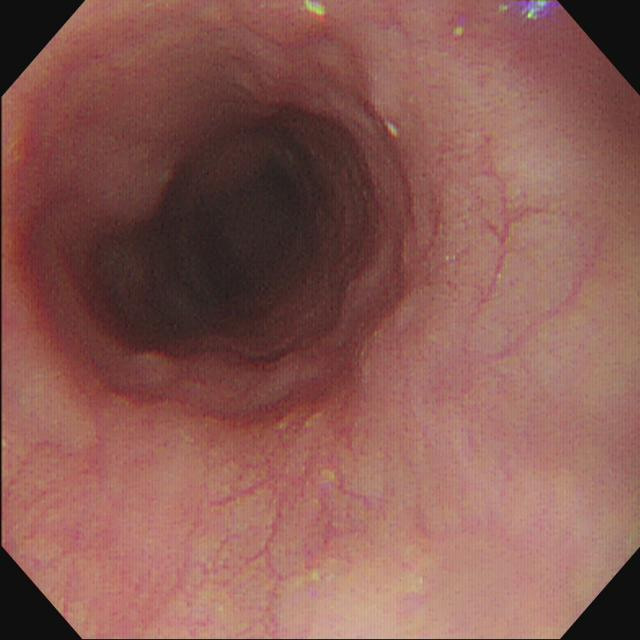E: (203, 164, 309, 279)
U: (523, 2, 557, 22), (305, 2, 325, 22)
